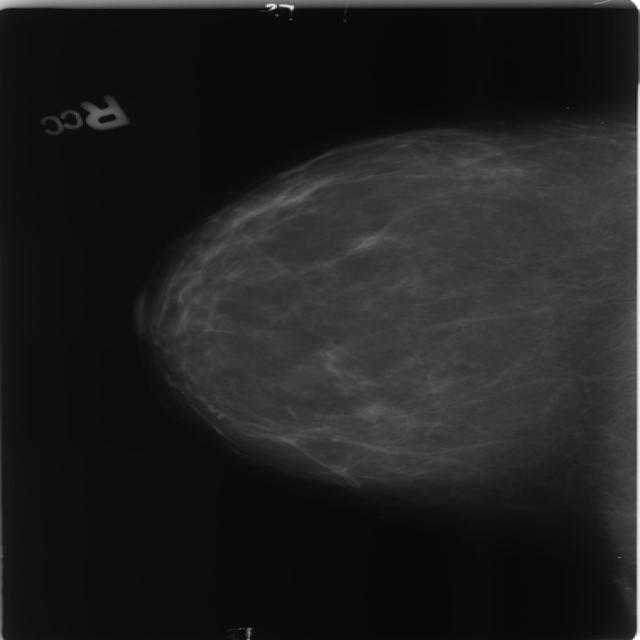tumour: (349, 402, 384, 420)
